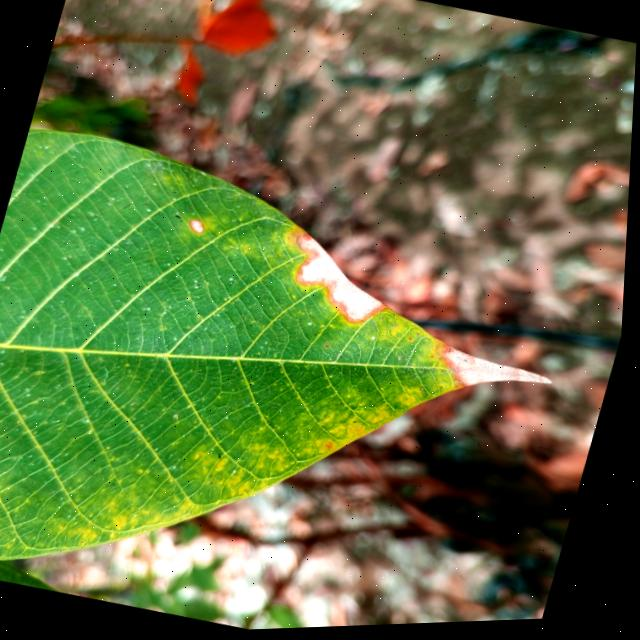Colletotrichum: (328, 344, 334, 349)
Leaf-Blight: (279, 228, 405, 332), (437, 343, 563, 409), (190, 218, 209, 235)
